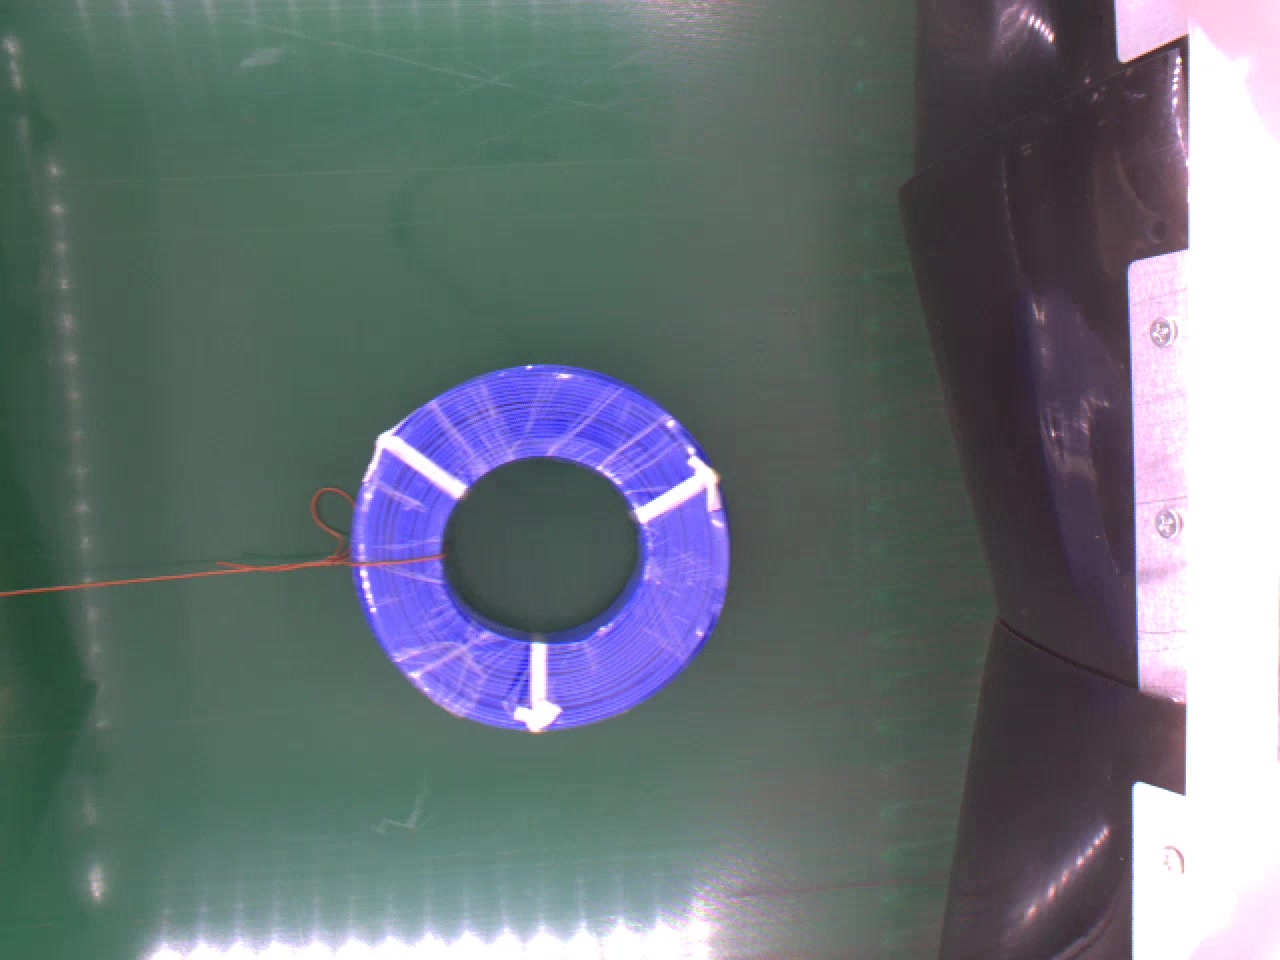blue: (353, 359, 731, 738)
